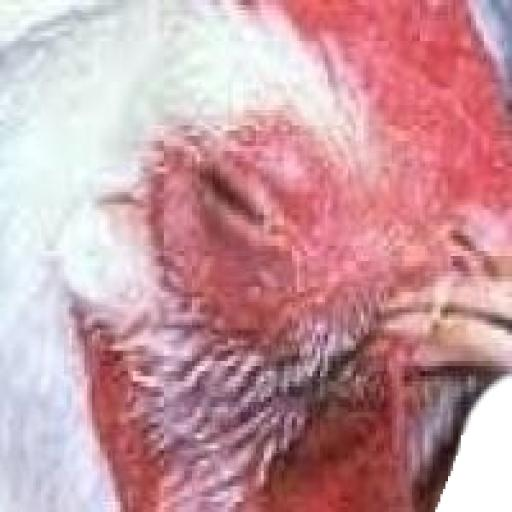disease: (164, 102, 344, 330)
